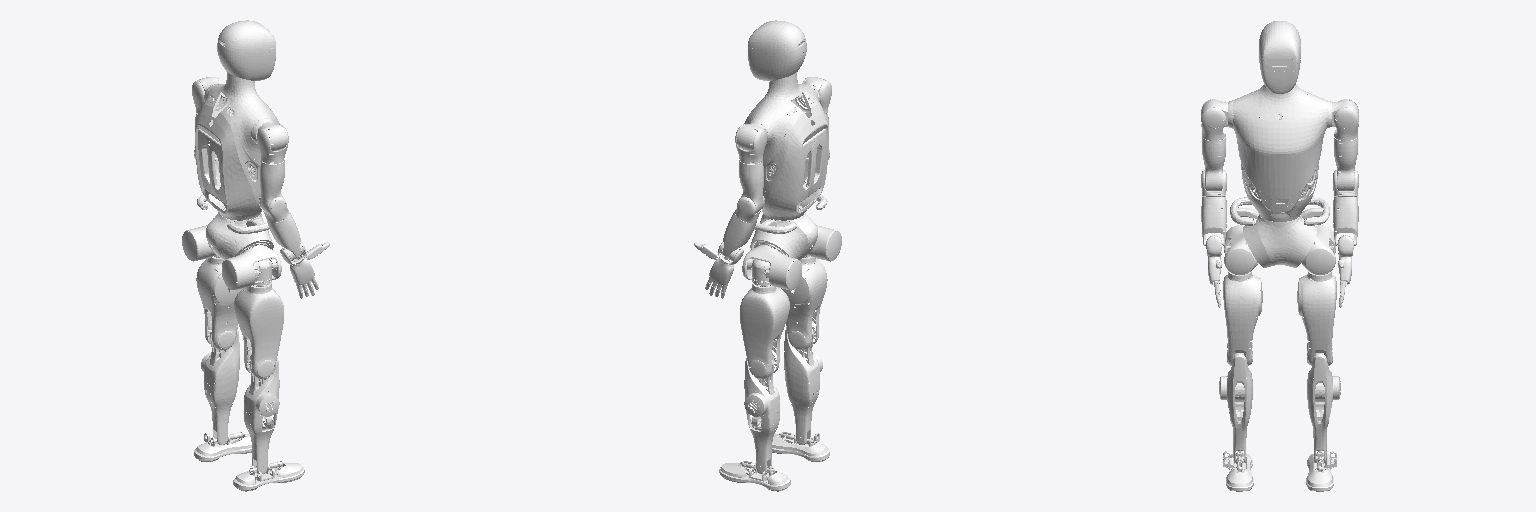
--- Facts derived from the render (not from the file) ---
3 views of the same robot in one strip: view 1: azimuth 30°, elevation 25°; view 2: azimuth 150°, elevation 25°; view 3: azimuth 270°, elevation 25° (orthographic).
Model gr2v3_8_7 with 37 links and 36 joints (29 revolute, 7 fixed), rooted at base_link, posed all joints at 0.
Visible links, largest first — view 1: torso_link, right_thigh_yaw_link, head_pitch_link, left_thigh_yaw_link, left_shank_pitch_link, right_shank_pitch_link, base_link, right_thigh_pitch_link, right_foot_roll_link, left_foot_roll_link, right_upper_arm_yaw_link, dummy_right_hand_link (+3 smaller); view 2: torso_link, left_thigh_yaw_link, head_pitch_link, right_thigh_yaw_link, right_shank_pitch_link, left_shank_pitch_link, base_link, left_thigh_pitch_link, left_foot_roll_link, right_foot_roll_link, left_upper_arm_yaw_link, left_dummy_hand_link (+3 smaller); view 3: torso_link, base_link, left_thigh_yaw_link, right_thigh_yaw_link, head_pitch_link, right_shank_pitch_link, left_shank_pitch_link, left_thigh_pitch_link, right_thigh_pitch_link, left_upper_arm_yaw_link, right_upper_arm_yaw_link, right_hand_yaw_link (+5 smaller).
Link boxes in pixels (x1,y1,x2,y2): torso_link: (195, 72, 279, 220); right_thigh_yaw_link: (234, 282, 283, 378); head_pitch_link: (217, 20, 275, 80); left_thigh_yaw_link: (196, 256, 242, 349); left_shank_pitch_link: (201, 329, 239, 444); right_shank_pitch_link: (244, 358, 279, 473); base_link: (197, 195, 273, 259); right_thigh_pitch_link: (222, 245, 281, 290); right_foot_roll_link: (233, 463, 304, 491); left_foot_roll_link: (194, 433, 251, 461); right_upper_arm_yaw_link: (259, 160, 284, 213); dummy_right_hand_link: (290, 242, 329, 298); torso_link: (744, 72, 828, 220); left_thigh_yaw_link: (740, 282, 789, 378); head_pitch_link: (748, 20, 806, 80); right_thigh_yaw_link: (781, 256, 827, 349); right_shank_pitch_link: (784, 329, 822, 444); left_shank_pitch_link: (744, 358, 779, 473); base_link: (750, 195, 827, 259); left_thigh_pitch_link: (742, 245, 801, 290); left_foot_roll_link: (719, 463, 790, 491); right_foot_roll_link: (772, 433, 829, 461); left_upper_arm_yaw_link: (739, 160, 764, 213); left_dummy_hand_link: (694, 242, 733, 298); torso_link: (1228, 85, 1331, 221); base_link: (1230, 197, 1329, 267); left_thigh_yaw_link: (1297, 271, 1336, 365); right_thigh_yaw_link: (1223, 271, 1262, 365); head_pitch_link: (1259, 21, 1300, 93); right_shank_pitch_link: (1219, 353, 1252, 462); left_shank_pitch_link: (1307, 353, 1340, 462); left_thigh_pitch_link: (1301, 225, 1335, 274); right_thigh_pitch_link: (1224, 225, 1258, 274); left_upper_arm_yaw_link: (1334, 137, 1357, 190); right_upper_arm_yaw_link: (1202, 137, 1225, 190); right_hand_yaw_link: (1201, 196, 1226, 245).
Bounding box of the posed robot: 0.374 × 0.5522 × 1.74 m (x, y, z).
Meshes: 33 distinct files referenced, 33 mesh visuals loaded (33 binary STL).

URDF robot description (gr2v3_8_7):
<?xml version='1.0' encoding='utf-8'?>
<robot name="gr2v3_8_7">
  <mujoco>
    <compiler meshdir="../meshes" strippath="false" balanceinertia="true" fusestatic="false" discardvisual="false" />
  </mujoco>
  <link name="base_link">
    <inertial>
      <origin xyz="-0.0030357 6.968E-05 -0.087284" rpy="0 0 0" />
      <mass value="6.6598" />
      <inertia ixx="0.048356" ixy="-1.314E-05" ixz="0.00041517" iyy="0.030781" iyz="-3.242E-05" izz="0.041191" />
    </inertial>
    <visual>
      <origin xyz="0 0 0" rpy="0 0 0" />
      <geometry>
        <mesh filename="../meshes/gr2v3_8_7/base_link.STL" />
      </geometry>
      <material name="">
        <color rgba="1 1 1 1" />
      </material>
    </visual>
    <collision>
      <origin xyz="0 0.125 0.01" rpy="0 0 0" />
      <geometry>
        <box size="0.18 0.06 0.02" />
      </geometry>
    </collision>
    <collision>
      <origin xyz="0 -0.125 0.01" rpy="0 0 0" />
      <geometry>
        <box size="0.18 0.06 0.02" />
      </geometry>
    </collision>
    <collision>
      <origin xyz="-0.03 0 -0.08" rpy="1.57 0 0" />
      <geometry>
        <cylinder radius="0.1" length="0.17" />
      </geometry>
    </collision>
  </link>
  <link name="waist_yaw_link">
    <inertial>
      <origin xyz="-2.017E-05 8.88E-05 0.024104" rpy="0 0 0" />
      <mass value="0.67252" />
      <inertia ixx="0.0010622" ixy="9E-08" ixz="-4.3E-07" iyy="0.0010624" iyz="3.7E-07" izz="0.00059099" />
    </inertial>
    <visual>
      <origin xyz="0 0 0" rpy="0 0 0" />
      <geometry>
        <mesh filename="../meshes/gr2v3_8_7/waist_yaw_link.STL" />
      </geometry>
      <material name="">
        <color rgba="1 1 1 1" />
      </material>
    </visual>
  </link>
  <joint name="waist_yaw_joint" type="revolute">
    <origin xyz="0 0 -0.0159" rpy="0 0 0" />
    <parent link="base_link" />
    <child link="waist_yaw_link" />
    <axis xyz="0 0 1" />
    <limit lower="-2.618" upper="2.618" effort="74.45" velocity="7.7568" />
    <dynamics armature="0.606" friction="0.01" damping="0.01" />
  </joint>
  <link name="torso_link">
    <inertial>
      <origin xyz="-0.0054214 0.0010624 -0.12326" rpy="0 0 0" />
      <mass value="14.058" />
      <inertia ixx="0.2545" ixy="0.0001127" ixz="-0.0023" iyy="0.21565" iyz="0.00034939" izz="0.1107" />
    </inertial>
    <visual>
      <origin xyz="0 0 0" rpy="0 0 0" />
      <geometry>
        <mesh filename="../meshes/gr2v3_8_7/torso_link.STL" />
      </geometry>
      <material name="">
        <color rgba="1 1 1 1" />
      </material>
    </visual>
    <collision>
      <origin xyz="0 0 -0.13" rpy="0 0 0" />
      <geometry>
        <cylinder radius="0.15" length="0.3" />
      </geometry>
    </collision>
  </link>
  <joint name="torso_joint" type="fixed">
    <origin xyz="0 0 0.39681" rpy="0 0 0" />
    <parent link="waist_yaw_link" />
    <child link="torso_link" />
    <axis xyz="0 0 0" />
  </joint>
  <link name="head_yaw_link">
    <inertial>
      <origin xyz="0 0.0099543 0.0065646" rpy="0 0 0" />
      <mass value="0.1402" />
      <inertia ixx="0.00012944" ixy="0" ixz="0" iyy="0.00010676" iyz="-3.991E-05" izz="4.821E-05" />
    </inertial>
    <visual>
      <origin xyz="0 0 0" rpy="0 0 0" />
      <geometry>
        <mesh filename="../meshes/gr2v3_8_7/head_yaw_link.STL" />
      </geometry>
      <material name="">
        <color rgba="1 1 1 1" />
      </material>
    </visual>
  </link>
  <joint name="head_yaw_joint" type="revolute">
    <origin xyz="0.001 0 0.11061" rpy="0 0 0" />
    <parent link="torso_link" />
    <child link="head_yaw_link" />
    <axis xyz="0 0 1" />
    <limit lower="-1.3963" upper="1.3963" effort="17.325" velocity="9.1627" />
    <dynamics armature="0.111" friction="0.01" damping="0.01" />
  </joint>
  <link name="head_pitch_link">
    <inertial>
      <origin xyz="0.031582 0.0012059 0.072239" rpy="0 0 0" />
      <mass value="1.6096" />
      <inertia ixx="0.0077257" ixy="-1.346E-05" ixz="-0.00055988" iyy="0.010424" iyz="0.00010711" izz="0.0060799" />
    </inertial>
    <visual>
      <origin xyz="0 0 0" rpy="0 0 0" />
      <geometry>
        <mesh filename="../meshes/gr2v3_8_7/head_pitch_link.STL" />
      </geometry>
      <material name="">
        <color rgba="1 1 1 1" />
      </material>
    </visual>
    <collision>
      <origin xyz="0.02 0 0.07" rpy="0 0 0" />
      <geometry>
        <sphere radius="0.09" />
      </geometry>
    </collision>
  </link>
  <joint name="head_pitch_joint" type="revolute">
    <origin xyz="0 0 0.044185" rpy="0 0 0" />
    <parent link="head_yaw_link" />
    <child link="head_pitch_link" />
    <axis xyz="0 1 0" />
    <limit lower="-0.5236" upper="0.5236" effort="17.325" velocity="9.1627" />
    <dynamics armature="0.111" friction="0.01" damping="0.01" />
  </joint>
  <link name="camera_link">
  </link>
  <joint name="camera_joint" type="fixed">
    <origin xyz="0.11296 0 0.09815" rpy="0 0 0" />
    <parent link="head_pitch_link" />
    <child link="camera_link" />
    <axis xyz="0 0 0" />
  </joint>
  <link name="left_upper_arm_pitch_link">
    <inertial>
      <origin xyz="0.0022312 0.040265 3.797E-05" rpy="0 0 0" />
      <mass value="1.3432" />
      <inertia ixx="0.0031811" ixy="-7.306E-05" ixz="-1.5E-07" iyy="0.0012561" iyz="9E-08" izz="0.0030442" />
    </inertial>
    <visual>
      <origin xyz="0 0 0" rpy="0 0 0" />
      <geometry>
        <mesh filename="../meshes/gr2v3_8_7/left_upper_arm_pitch_link.STL" />
      </geometry>
      <material name="">
        <color rgba="1 1 1 1" />
      </material>
    </visual>
  </link>
  <joint name="left_shoulder_pitch_joint" type="revolute">
    <origin xyz="0 0.15115 0" rpy="0 0 0" />
    <parent link="torso_link" />
    <child link="left_upper_arm_pitch_link" />
    <axis xyz="0 1 0" />
    <limit lower="-2.9671" upper="2.9671" effort="74.45" velocity="7.7568" />
    <dynamics armature="0.606" friction="0.01" damping="0.01" />
  </joint>
  <link name="left_upper_arm_roll_link">
    <inertial>
      <origin xyz="0.0087432 0.0022878 -0.038787" rpy="0 0 0" />
      <mass value="0.96142" />
      <inertia ixx="0.0026111" ixy="1.105E-05" ixz="-0.00033468" iyy="0.0028017" iyz="2.91E-06" izz="0.00091191" />
    </inertial>
    <visual>
      <origin xyz="0 0 0" rpy="0 0 0" />
      <geometry>
        <mesh filename="../meshes/gr2v3_8_7/left_upper_arm_roll_link.STL" />
      </geometry>
      <material name="">
        <color rgba="1 1 1 1" />
      </material>
    </visual>
    <collision>
      <origin xyz="0 0 0" rpy="0 0 0" />
      <geometry>
        <sphere radius="0.045" />
      </geometry>
    </collision>
  </link>
  <joint name="left_shoulder_roll_joint" type="revolute">
    <origin xyz="0 0.078848 0" rpy="0 0 0" />
    <parent link="left_upper_arm_pitch_link" />
    <child link="left_upper_arm_roll_link" />
    <axis xyz="1 0 0" />
    <limit lower="-0.5236" upper="2.7925" effort="74.45" velocity="7.7568" />
    <dynamics armature="0.606" friction="0.01" damping="0.01" />
  </joint>
  <link name="left_upper_arm_yaw_link">
    <inertial>
      <origin xyz="-0.00056161 0.0012137 -0.091108" rpy="0 0 0" />
      <mass value="1.3181" />
      <inertia ixx="0.0067903" ixy="3.2E-07" ixz="-5.12E-06" iyy="0.0068059" iyz="9.238E-05" izz="0.0010853" />
    </inertial>
    <visual>
      <origin xyz="0 0 0" rpy="0 0 0" />
      <geometry>
        <mesh filename="../meshes/gr2v3_8_7/left_upper_arm_yaw_link.STL" />
      </geometry>
      <material name="">
        <color rgba="1 1 1 1" />
      </material>
    </visual>
    <collision>
      <origin xyz="0 0 -0.05" rpy="0 0 0" />
      <geometry>
        <cylinder radius="0.04" length="0.10" />
      </geometry>
    </collision>
  </link>
  <joint name="left_shoulder_yaw_joint" type="revolute">
    <origin xyz="0 0 -0.09438" rpy="0 0 0" />
    <parent link="left_upper_arm_roll_link" />
    <child link="left_upper_arm_yaw_link" />
    <axis xyz="0 0 1" />
    <limit lower="-1.8326" upper="1.8326" effort="42.75" velocity="6.283" />
    <dynamics armature="0.222" friction="0.01" damping="0.01" />
  </joint>
  <link name="left_lower_arm_pitch_link">
    <inertial>
      <origin xyz="-0.0014862 0.006973 -0.021097" rpy="0 0 0" />
      <mass value="0.45807" />
      <inertia ixx="0.00068974" ixy="-3.65E-06" ixz="-2.99E-06" iyy="0.00057464" iyz="-6.575E-05" izz="0.00038897" />
    </inertial>
    <visual>
      <origin xyz="0 0 0" rpy="0 0 0" />
      <geometry>
        <mesh filename="../meshes/gr2v3_8_7/left_lower_arm_pitch_link.STL" />
      </geometry>
      <material name="">
        <color rgba="1 1 1 1" />
      </material>
    </visual>
  </link>
  <joint name="left_elbow_pitch_joint" type="revolute">
    <origin xyz="0 0 -0.16111" rpy="0 -0.3926 0" />
    <parent link="left_upper_arm_yaw_link" />
    <child link="left_lower_arm_pitch_link" />
    <axis xyz="0 1 0" />
    <limit lower="-1.5272" upper="0.47997" effort="42.75" velocity="6.283" />
    <dynamics armature="0.222" friction="0.01" damping="0.01" />
  </joint>
  <link name="left_hand_yaw_link">
    <inertial>
      <origin xyz="0.00027991 0.0038031 -0.062955" rpy="0 0 0" />
      <mass value="1.0855" />
      <inertia ixx="0.0023598" ixy="-9.31E-06" ixz="2.063E-05" iyy="0.002234" iyz="0.00013994" izz="0.00088838" />
    </inertial>
    <visual>
      <origin xyz="0 0 0" rpy="0 0 0" />
      <geometry>
        <mesh filename="../meshes/gr2v3_8_7/left_hand_yaw_link.STL" />
      </geometry>
      <material name="">
        <color rgba="1 1 1 1" />
      </material>
    </visual>
    <collision>
      <origin xyz="0 0 -0.05" rpy="0 0 0" />
      <geometry>
        <cylinder radius="0.045" length="0.115" />
      </geometry>
    </collision>
  </link>
  <joint name="left_wrist_yaw_joint" type="revolute">
    <origin xyz="0 0 -0.058525" rpy="0 0 0" />
    <parent link="left_lower_arm_pitch_link" />
    <child link="left_hand_yaw_link" />
    <axis xyz="0 0 1" />
    <limit lower="-1.8326" upper="1.8326" effort="17.325" velocity="9.1627" />
    <dynamics armature="0.111" friction="0.01" damping="0.01" />
  </joint>
  <link name="left_hand_pitch_link">
    <inertial>
      <origin xyz="0.0038604 2.7474E-05 2.9411E-06" rpy="0 0 0" />
      <mass value="0.45716" />
      <inertia ixx="0.00021943" ixy="-3.7E-07" ixz="-8.6975E-08" iyy="0.00022813" iyz="-2.1E-07" izz="0.00023483" />
    </inertial>
    <visual>
      <origin xyz="0 0 0" rpy="0 0 0" />
      <geometry>
        <mesh filename="../meshes/gr2v3_8_7/left_hand_pitch_link.STL" />
      </geometry>
      <material name="">
        <color rgba="1 1 1 1" />
      </material>
    </visual>
  </link>
  <joint name="left_wrist_pitch_joint" type="revolute">
    <origin xyz="0 0 -0.16102" rpy="0 0 0" />
    <parent link="left_hand_yaw_link" />
    <child link="left_hand_pitch_link" />
    <axis xyz="0 1 0" />
    <limit lower="-0.61087" upper="0.61087" effort="17.325" velocity="9.1627" />
    <dynamics armature="0.111" friction="0.01" damping="0.01" />
  </joint>
  <link name="left_hand_roll_link">
    <inertial>
      <origin xyz="0.0087325 -2.8386E-05 -0.015719" rpy="0 0 0" />
      <mass value="0.20259" />
      <inertia ixx="0.0001134" ixy="-1.8583E-08" ixz="-2.4468E-05" iyy="0.00019338" iyz="-6.0314E-08" izz="0.0001471" />
    </inertial>
    <visual>
      <origin xyz="0 0 0" rpy="0 0 0" />
      <geometry>
        <mesh filename="../meshes/gr2v3_8_7/left_hand_roll_link.STL" />
      </geometry>
      <material name="">
        <color rgba="1 1 1 1" />
      </material>
    </visual>
  </link>
  <joint name="left_wrist_roll_joint" type="revolute">
    <origin xyz="0 0 0" rpy="0 0 0" />
    <parent link="left_hand_pitch_link" />
    <child link="left_hand_roll_link" />
    <axis xyz="1 0 0" />
    <limit lower="-0.95993" upper="0.95993" effort="17.325" velocity="9.1627" />
    <dynamics armature="0.111" friction="0.01" damping="0.01" />
  </joint>
  <link name="left_end_effector_link">
  </link>
  <joint name="left_end_effector_joint" type="fixed">
    <origin xyz="0 0 -0.045" rpy="0 0 0" />
    <parent link="left_hand_roll_link" />
    <child link="left_end_effector_link" />
    <axis xyz="0 0 0" />
  </joint>
  <link name="right_upper_arm_pitch_link">
    <inertial>
      <origin xyz="0.0022312 -0.040265 3.797E-05" rpy="0 0 0" />
      <mass value="1.3432" />
      <inertia ixx="0.0031811" ixy="7.306E-05" ixz="-1.5E-07" iyy="0.0012561" iyz="-9E-08" izz="0.0030442" />
    </inertial>
    <visual>
      <origin xyz="0 0 0" rpy="0 0 0" />
      <geometry>
        <mesh filename="../meshes/gr2v3_8_7/right_upper_arm_pitch_link.STL" />
      </geometry>
      <material name="">
        <color rgba="1 1 1 1" />
      </material>
    </visual>
  </link>
  <joint name="right_shoulder_pitch_joint" type="revolute">
    <origin xyz="0 -0.1585 0" rpy="0 0 0" />
    <parent link="torso_link" />
    <child link="right_upper_arm_pitch_link" />
    <axis xyz="0 1 0" />
    <limit lower="-2.9671" upper="2.9671" effort="74.45" velocity="7.7568" />
    <dynamics armature="0.606" friction="0.01" damping="0.01" />
  </joint>
  <link name="right_upper_arm_roll_link">
    <inertial>
      <origin xyz="0.0087432 -0.0022878 -0.038787" rpy="0 0 0" />
      <mass value="0.96142" />
      <inertia ixx="0.0026111" ixy="-1.105E-05" ixz="-0.00033468" iyy="0.0028017" iyz="-2.91E-06" izz="0.00091191" />
    </inertial>
    <visual>
      <origin xyz="0 0 0" rpy="0 0 0" />
      <geometry>
        <mesh filename="../meshes/gr2v3_8_7/right_upper_arm_roll_link.STL" />
      </geometry>
      <material name="">
        <color rgba="1 1 1 1" />
      </material>
    </visual>
    <collision>
      <origin xyz="0 0 0" rpy="0 0 0" />
      <geometry>
        <sphere radius="0.045" />
      </geometry>
    </collision>
  </link>
  <joint name="right_shoulder_roll_joint" type="revolute">
    <origin xyz="0 -0.071498 0" rpy="0 0 0" />
    <parent link="right_upper_arm_pitch_link" />
    <child link="right_upper_arm_roll_link" />
    <axis xyz="1 0 0" />
    <limit lower="-2.7925" upper="0.5236" effort="74.45" velocity="7.7568" />
    <dynamics armature="0.606" friction="0.01" damping="0.01" />
  </joint>
  <link name="right_upper_arm_yaw_link">
    <inertial>
      <origin xyz="-0.00056161 -0.0012137 -0.091108" rpy="0 0 0" />
      <mass value="1.3181" />
      <inertia ixx="0.0067903" ixy="-3.2E-07" ixz="-5.12E-06" iyy="0.0068059" iyz="-9.238E-05" izz="0.0010853" />
    </inertial>
    <visual>
      <origin xyz="0 0 0" rpy="0 0 0" />
      <geometry>
        <mesh filename="../meshes/gr2v3_8_7/right_upper_arm_yaw_link.STL" />
      </geometry>
      <material name="">
        <color rgba="1 1 1 1" />
      </material>
    </visual>
    <collision>
      <origin xyz="0 0 -0.05" rpy="0 0 0" />
      <geometry>
        <cylinder radius="0.040" length="0.1" />
      </geometry>
    </collision>
  </link>
  <joint name="right_shoulder_yaw_joint" type="revolute">
    <origin xyz="0 0 -0.09438" rpy="0 0 0" />
    <parent link="right_upper_arm_roll_link" />
    <child link="right_upper_arm_yaw_link" />
    <axis xyz="0 0 1" />
    <limit lower="-1.8326" upper="1.8326" effort="42.75" velocity="6.283" />
    <dynamics armature="0.222" friction="0.01" damping="0.01" />
  </joint>
  <link name="right_lower_arm_pitch_link">
    <inertial>
      <origin xyz="-0.0014862 -0.006973 -0.021097" rpy="0 0 0" />
      <mass value="0.45807" />
      <inertia ixx="0.00068974" ixy="3.65E-06" ixz="-2.99E-06" iyy="0.00057464" iyz="6.575E-05" izz="0.00038897" />
    </inertial>
    <visual>
      <origin xyz="0 0 0" rpy="0 0 0" />
      <geometry>
        <mesh filename="../meshes/gr2v3_8_7/right_lower_arm_pitch_link.STL" />
      </geometry>
      <material name="">
        <color rgba="1 1 1 1" />
      </material>
    </visual>
  </link>
  <joint name="right_elbow_pitch_joint" type="revolute">
    <origin xyz="0 0 -0.16111" rpy="0 -0.39265 0" />
    <parent link="right_upper_arm_yaw_link" />
    <child link="right_lower_arm_pitch_link" />
    <axis xyz="0 1 0" />
    <limit lower="-1.5272" upper="0.47997" effort="42.75" velocity="6.283" />
    <dynamics armature="0.222" friction="0.01" damping="0.01" />
  </joint>
  <link name="right_hand_yaw_link">
    <inertial>
      <origin xyz="0.00027991 -0.0038031 -0.062955" rpy="0 0 0" />
      <mass value="1.0855" />
      <inertia ixx="0.0023598" ixy="9.31E-06" ixz="2.063E-05" iyy="0.002234" iyz="-0.00013994" izz="0.00088838" />
    </inertial>
    <visual>
      <origin xyz="0 0 0" rpy="0 0 0" />
      <geometry>
        <mesh filename="../meshes/gr2v3_8_7/right_hand_yaw_link.STL" />
      </geometry>
      <material name="">
        <color rgba="1 1 1 1" />
      </material>
    </visual>
    <collision>
      <origin xyz="0 0 -0.05" rpy="0 0 0" />
      <geometry>
        <cylinder radius="0.045" length="0.1155" />
      </geometry>
    </collision>
  </link>
  <joint name="right_wrist_yaw_joint" type="revolute">
    <origin xyz="0 0 -0.058525" rpy="0 0 0" />
    <parent link="right_lower_arm_pitch_link" />
    <child link="right_hand_yaw_link" />
    <axis xyz="0 0 1" />
    <limit lower="-1.8326" upper="1.8326" effort="17.325" velocity="9.1627" />
    <dynamics armature="0.111" friction="0.01" damping="0.01" />
  </joint>
  <link name="right_hand_pitch_link">
    <inertial>
      <origin xyz="0.0038604 -2.7474E-05 2.9411E-06" rpy="0 0 0" />
      <mass value="0.45716" />
      <inertia ixx="0.00021943" ixy="3.7E-07" ixz="-8.6975E-08" iyy="0.00022813" iyz="2.1E-07" izz="0.00023483" />
    </inertial>
    <visual>
      <origin xyz="0 0 0" rpy="0 0 0" />
      <geometry>
        <mesh filename="../meshes/gr2v3_8_7/right_hand_pitch_link.STL" />
      </geometry>
      <material name="">
        <color rgba="1 1 1 1" />
      </material>
    </visual>
  </link>
  <joint name="right_wrist_pitch_joint" type="revolute">
    <origin xyz="0 0 -0.16102" rpy="0 0 0" />
    <parent link="right_hand_yaw_link" />
    <child link="right_hand_pitch_link" />
    <axis xyz="0 1 0" />
    <limit lower="-0.61087" upper="0.61087" effort="17.325" velocity="9.1627" />
    <dynamics armature="0.111" friction="0.01" damping="0.01" />
  </joint>
  <link name="right_hand_roll_link">
    <inertial>
      <origin xyz="0.0087325 2.8386E-05 -0.015719" rpy="0 0 0" />
      <mass value="0.20259" />
      <inertia ixx="0.0001134" ixy="1.8583E-08" ixz="-2.4468E-05" iyy="0.00019338" iyz="6.0314E-08" izz="0.0001471" />
    </inertial>
    <visual>
      <origin xyz="0 0 0" rpy="0 0 0" />
      <geometry>
        <mesh filename="../meshes/gr2v3_8_7/right_hand_roll_link.STL" />
      </geometry>
      <material name="">
        <color rgba="1 1 1 1" />
      </material>
    </visual>
  </link>
  <joint name="right_wrist_roll_joint" type="revolute">
    <origin xyz="0 0 0" rpy="0 0 0" />
    <parent link="right_hand_pitch_link" />
    <child link="right_hand_roll_link" />
    <axis xyz="1 0 0" />
    <limit lower="-0.95993" upper="0.95993" effort="17.325" velocity="9.1627" />
    <dynamics armature="0.111" friction="0.01" damping="0.01" />
  </joint>
  <link name="right_end_effector_link">
  </link>
  <joint name="right_end_effector_joint" type="fixed">
    <origin xyz="0 0 -0.045" rpy="0 0 0" />
    <parent link="right_hand_roll_link" />
    <child link="right_end_effector_link" />
    <axis xyz="0 0 0" />
  </joint>
  <link name="left_thigh_pitch_link">
    <inertial>
      <origin xyz="-0.035065 0.036467 0.0020083" rpy="0 0 0" />
      <mass value="2.61" />
      <inertia ixx="0.0075932" ixy="0.0031974" ixz="-8.035E-05" iyy="0.0085937" iyz="-9.448E-05" izz="0.011716" />
    </inertial>
    <visual>
      <origin xyz="0 0 0" rpy="0 0 0" />
      <geometry>
        <mesh filename="../meshes/gr2v3_8_7/left_thigh_pitch_link.STL" />
      </geometry>
      <material name="">
        <color rgba="1 1 1 1" />
      </material>
    </visual>
  </link>
  <joint name="left_hip_pitch_joint" type="revolute">
    <origin xyz="0 0.076867 -0.12355" rpy="-0.5236 0 0" />
    <parent link="base_link" />
    <child link="left_thigh_pitch_link" />
    <axis xyz="0 1 0" />
    <limit lower="-2.618" upper="2.618" effort="366.05" velocity="6.4997" />
    <dynamics armature="0.592" friction="0.01" damping="0.01" />
  </joint>
  <link name="left_thigh_roll_link">
    <inertial>
      <origin xyz="0.027776 -0.00010848 -0.0074687" rpy="0 0 0" />
      <mass value="1.3487" />
      <inertia ixx="0.001181" ixy="-5.3E-06" ixz="0.00034163" iyy="0.0026369" iyz="-3.01E-06" izz="0.0027651" />
    </inertial>
    <visual>
      <origin xyz="0 0 0" rpy="0 0 0" />
      <geometry>
        <mesh filename="../meshes/gr2v3_8_7/left_thigh_roll_link.STL" />
      </geometry>
      <material name="">
        <color rgba="1 1 1 1" />
      </material>
    </visual>
  </link>
  <joint name="left_hip_roll_joint" type="revolute">
    <origin xyz="-0.062 0.0729 0" rpy="0.5236 0 0" />
    <parent link="left_thigh_pitch_link" />
    <child link="left_thigh_roll_link" />
    <axis xyz="1 0 0" />
    <limit lower="-0.59341" upper="1.5708" effort="95.472" velocity="12.362" />
    <dynamics armature="0.121" friction="0.01" damping="0.01" />
  </joint>
  <link name="left_thigh_yaw_link">
    <inertial>
      <origin xyz="0.0010147 -0.012758 -0.14387" rpy="0 0 0" />
      <mass value="5.1152" />
      <inertia ixx="0.042296" ixy="-8.538E-05" ixz="0.00038855" iyy="0.043183" iyz="0.00098874" izz="0.0099198" />
    </inertial>
    <visual>
      <origin xyz="0 0 0" rpy="0 0 0" />
      <geometry>
        <mesh filename="../meshes/gr2v3_8_7/left_thigh_yaw_link.STL" />
      </geometry>
      <material name="">
        <color rgba="1 1 1 1" />
      </material>
    </visual>
    <collision>
      <origin xyz="0 0 -0.19" rpy="0 0 0" />
      <geometry>
        <cylinder radius="0.06" length="0.26" />
      </geometry>
    </collision>
  </link>
  <joint name="left_hip_yaw_joint" type="revolute">
    <origin xyz="0.062 0 -0.03495" rpy="0 0 0" />
    <parent link="left_thigh_roll_link" />
    <child link="left_thigh_yaw_link" />
    <axis xyz="0 0 1" />
    <limit lower="-0.69813" upper="1.5708" effort="54.33" velocity="14.745" />
    <dynamics armature="0.165" friction="0.01" damping="0.01" />
  </joint>
  <link name="left_shank_pitch_link">
    <inertial>
      <origin xyz="0.0045396 0.0037923 -0.17984" rpy="0 0 0" />
      <mass value="3.7232" />
      <inertia ixx="0.036992" ixy="6.79E-05" ixz="-0.00012767" iyy="0.037957" iyz="0.00044476" izz="0.003922" />
    </inertial>
    <visual>
      <origin xyz="0 0 0" rpy="0 0 0" />
      <geometry>
        <mesh filename="../meshes/gr2v3_8_7/left_shank_pitch_link.STL" />
      </geometry>
      <material name="">
        <color rgba="1 1 1 1" />
      </material>
    </visual>
    <collision>
      <origin xyz="0 0 -0.165" rpy="0 0 0" />
      <geometry>
        <cylinder radius="0.05" length="0.18" />
      </geometry>
    </collision>
  </link>
  <joint name="left_knee_pitch_joint" type="revolute">
    <origin xyz="0 0 -0.34305" rpy="0 0 0" />
    <parent link="left_thigh_yaw_link" />
    <child link="left_shank_pitch_link" />
    <axis xyz="0 1 0" />
    <limit lower="-0.087266" upper="2.3562" effort="366.05" velocity="6.4997" />
    <dynamics armature="0.592" friction="0.01" damping="0.01" />
  </joint>
  <link name="left_foot_pitch_link">
    <inertial>
      <origin xyz="0.028326 1.186E-05 0.0010629" rpy="0 0 0" />
      <mass value="0.18479" />
      <inertia ixx="1.263E-05" ixy="-9E-08" ixz="5.55E-06" iyy="0.0002444" iyz="-1.8E-07" izz="0.00024533" />
    </inertial>
    <visual>
      <origin xyz="0 0 0" rpy="0 0 0" />
      <geometry>
        <mesh filename="../meshes/gr2v3_8_7/left_foot_pitch_link.STL" />
      </geometry>
      <material name="">
        <color rgba="1 1 1 1" />
      </material>
    </visual>
  </link>
  <joint name="left_ankle_pitch_joint" type="revolute">
    <origin xyz="0 0 -0.406" rpy="0 0 0" />
    <parent link="left_shank_pitch_link" />
    <child link="left_foot_pitch_link" />
    <axis xyz="0 1 0" />
    <limit lower="-0.7854" upper="0.7854" effort="54.33" velocity="14.745" />
    <dynamics armature="0.165" friction="0.01" damping="0.01" />
  </joint>
  <link name="left_foot_roll_link">
    <inertial>
      <origin xyz="0.027263 0.0064312 -0.032367" rpy="0 0 0" />
      <mass value="1.1125" />
      <inertia ixx="0.0010746" ixy="0.00020984" ixz="0.00016736" iyy="0.0052051" iyz="-0.00019853" izz="0.0056239" />
    </inertial>
    <visual>
      <origin xyz="0 0 0" rpy="0 0 0" />
      <geometry>
        <mesh filename="../meshes/gr2v3_8_7/left_foot_roll_link.STL" />
      </geometry>
      <material name="">
        <color rgba="1 1 1 1" />
      </material>
    </visual>
    <collision>
      <origin xyz="0.06 -0.025 -0.033" rpy="0 1.57 0" />
      <geometry>
        <cylinder radius="0.025" length="0.28" />
      </geometry>
    </collision>
    <collision>
      <origin xyz="0.06 0.025 -0.033" rpy="0 1.57 0" />
      <geometry>
        <cylinder radius="0.025" length="0.28" />
      </geometry>
    </collision>
  </link>
  <joint name="left_ankle_roll_joint" type="revolute">
    <origin xyz="0 0 0" rpy="0 0 0" />
    <parent link="left_foot_pitch_link" />
    <child link="left_foot_roll_link" />
    <axis xyz="1 0 0" />
    <limit lower="-0.38397" upper="0.38397" effort="29.835" velocity="16.755" />
    <dynamics armature="0.031" friction="0.01" damping="0.01" />
  </joint>
  <link name="right_thigh_pitch_link">
    <inertial>
      <origin xyz="-0.035065 -0.036467 0.0020083" rpy="0 0 0" />
      <mass value="2.61" />
      <inertia ixx="0.0075932" ixy="-0.0031974" ixz="-8.035E-05" iyy="0.0085937" iyz="9.448E-05" izz="0.011716" />
    </inertial>
    <visual>
      <origin xyz="0 0 0" rpy="0 0 0" />
      <geometry>
        <mesh filename="../meshes/gr2v3_8_7/right_thigh_pitch_link.STL" />
      </geometry>
      <material name="">
        <color rgba="1 1 1 1" />
      </material>
    </visual>
  </link>
  <joint name="right_hip_pitch_joint" type="revolute">
    <origin xyz="0 -0.076867 -0.12355" rpy="0.5236 0 0" />
    <parent link="base_link" />
    <child link="right_thigh_pitch_link" />
    <axis xyz="0 1 0" />
    <limit lower="-2.618" upper="2.618" effort="366.05" velocity="6.4997" />
    <dynamics armature="0.592" friction="0.01" damping="0.01" />
  </joint>
  <link name="right_thigh_roll_link">
    <inertial>
      <origin xyz="0.027776 0.00010848 -0.0074687" rpy="0 0 0" />
      <mass value="1.3487" />
      <inertia ixx="0.001181" ixy="5.3E-06" ixz="0.00034163" iyy="0.0026369" iyz="3.01E-06" izz="0.0027651" />
    </inertial>
    <visual>
      <origin xyz="0 0 0" rpy="0 0 0" />
      <geometry>
        <mesh filename="../meshes/gr2v3_8_7/right_thigh_roll_link.STL" />
      </geometry>
      <material name="">
        <color rgba="1 1 1 1" />
      </material>
    </visual>
  </link>
  <joint name="right_hip_roll_joint" type="revolute">
    <origin xyz="-0.062 -0.0729 0" rpy="-0.5236 0 0" />
    <parent link="right_thigh_pitch_link" />
    <child link="right_thigh_roll_link" />
    <axis xyz="1 0 0" />
    <limit lower="-1.5708" upper="0.59341" effort="95.472" velocity="12.362" />
    <dynamics armature="0.121" friction="0.01" damping="0.01" />
  </joint>
  <link name="right_thigh_yaw_link">
    <inertial>
      <origin xyz="0.0010147 0.012758 -0.14387" rpy="0 0 0" />
      <mass value="5.1152" />
      <inertia ixx="0.042296" ixy="8.538E-05" ixz="0.00038855" iyy="0.043183" iyz="-0.00098874" izz="0.0099198" />
    </inertial>
    <visual>
      <origin xyz="0 0 0" rpy="0 0 0" />
      <geometry>
        <mesh filename="../meshes/gr2v3_8_7/right_thigh_yaw_link.STL" />
      </geometry>
      <material name="">
        <color rgba="1 1 1 1" />
      </material>
    </visual>
    <collision>
      <origin xyz="0 0 -0.19" rpy="0 0 0" />
      <geometry>
        <cylinder radius="0.06" length="0.26" />
      </geometry>
    </collision>
  </link>
  <joint name="right_hip_yaw_joint" type="revolute">
    <origin xyz="0.062 0 -0.03495" rpy="0 0 0" />
    <parent link="right_thigh_roll_link" />
    <child link="right_thigh_yaw_link" />
    <axis xyz="0 0 1" />
    <limit lower="-1.5708" upper="0.69813" effort="54.33" velocity="14.745" />
    <dynamics armature="0.165" friction="0.01" damping="0.01" />
  </joint>
  <link name="right_shank_pitch_link">
    <inertial>
      <origin xyz="0.0045396 -0.0037923 -0.17984" rpy="0 0 0" />
      <mass value="3.7232" />
      <inertia ixx="0.036992" ixy="-6.79E-05" ixz="-0.00012767" iyy="0.037957" iyz="-0.00044476" izz="0.003922" />
    </inertial>
    <visual>
      <origin xyz="0 0 0" rpy="0 0 0" />
      <geometry>
        <mesh filename="../meshes/gr2v3_8_7/right_shank_pitch_link.STL" />
      </geometry>
      <material name="">
        <color rgba="1 1 1 1" />
      </material>
    </visual>
    <collision>
      <origin xyz="0 0 -0.165" rpy="0 0 0" />
      <geometry>
        <cylinder radius="0.05" length="0.18" />
      </geometry>
    </collision>
  </link>
  <joint name="right_knee_pitch_joint" type="revolute">
    <origin xyz="0 0 -0.34305" rpy="0 0 0" />
    <parent link="right_thigh_yaw_link" />
    <child link="right_shank_pitch_link" />
    <axis xyz="0 1 0" />
    <limit lower="-0.087266" upper="2.3562" effort="366.05" velocity="6.4997" />
    <dynamics armature="0.592" friction="0.01" damping="0.01" />
  </joint>
  <link name="right_foot_pitch_link">
    <inertial>
      <origin xyz="0.028326 -1.186E-05 0.0010629" rpy="0 0 0" />
      <mass value="0.18479" />
      <inertia ixx="1.263E-05" ixy="9E-08" ixz="5.55E-06" iyy="0.0002444" iyz="1.8E-07" izz="0.00024533" />
    </inertial>
    <visual>
      <origin xyz="0 0 0" rpy="0 0 0" />
      <geometry>
        <mesh filename="../meshes/gr2v3_8_7/right_foot_pitch_link.STL" />
      </geometry>
      <material name="">
        <color rgba="1 1 1 1" />
      </material>
    </visual>
  </link>
  <joint name="right_ankle_pitch_joint" type="revolute">
    <origin xyz="0 0 -0.406" rpy="0 0 0" />
    <parent link="right_shank_pitch_link" />
    <child link="right_foot_pitch_link" />
    <axis xyz="0 1 0" />
    <limit lower="-0.7854" upper="0.7854" effort="54.33" velocity="14.745" />
    <dynamics armature="0.165" friction="0.01" damping="0.01" />
  </joint>
  <link name="right_foot_roll_link">
    <inertial>
      <origin xyz="0.027263 -0.0064312 -0.032367" rpy="0 0 0" />
      <mass value="1.1125" />
      <inertia ixx="0.0010746" ixy="-0.00020984" ixz="0.00016736" iyy="0.0052051" iyz="0.00019853" izz="0.0056239" />
    </inertial>
    <visual>
      <origin xyz="0 0 0" rpy="0 0 0" />
      <geometry>
        <mesh filename="../meshes/gr2v3_8_7/right_foot_roll_link.STL" />
      </geometry>
      <material name="">
        <color rgba="1 1 1 1" />
      </material>
    </visual>
    <collision>
      <origin xyz="0.06 -0.025 -0.033" rpy="0 1.57 0" />
      <geometry>
        <cylinder radius="0.025" length="0.28" />
      </geometry>
    </collision>
    <collision>
      <origin xyz="0.06 0.025 -0.033" rpy="0 1.57 0" />
      <geometry>
        <cylinder radius="0.025" length="0.28" />
      </geometry>
    </collision>
  </link>
  <joint name="right_ankle_roll_joint" type="revolute">
    <origin xyz="0 0 0" rpy="0 0 0" />
    <parent link="right_foot_pitch_link" />
    <child link="right_foot_roll_link" />
    <axis xyz="1 0 0" />
    <limit lower="-0.38397" upper="0.38397" effort="29.835" velocity="16.755" />
    <dynamics armature="0.031" friction="0.01" damping="0.01" />
  </joint>
  <link name="imu_link">
    <inertial>
      <origin xyz="0 0 0" rpy="0 0 0" />
      <mass value="0" />
      <inertia ixx="0" ixy="0" ixz="0" iyy="0" iyz="0" izz="0" />
    </inertial>
  </link>
  <joint name="imu_joint" type="fixed">
    <origin xyz="-0.059 0 -0.068" rpy="0 0 0" />
    <parent link="base_link" />
    <child link="imu_link" />
    <axis xyz="0 0 0" />
  </joint>
<link name="left_dummy_hand_link">
    <inertial>
      <origin xyz="0.01485 -0.006224 -0.05627" rpy="0 0 0" />
      <mass value="0.4686" />
      <inertia ixx="0.0006912" ixy="7.052E-5" ixz="-0.000229" iyy="0.001342" iyz="-9.13E-6" izz="0.0007638" />
    </inertial>
    <visual>
      <origin xyz="0 0 0" rpy="0 0 0" />
      <geometry>
        <mesh filename="../meshes/dummy_hand/dummy_left_hand.STL" />
      </geometry>
      <material name="">
        <color rgba="1 1 1 1" />
      </material>
    </visual>
    <collision>
      <origin xyz="0 0 -0.055" rpy="0 0 0" />
      <geometry>
        <box size="0.07 0.04 0.11" />
      </geometry>
      <material name="">
        <color rgba="1 1 1 1" />
      </material>
    </collision>
  </link>
<joint name="left_dummy_hand_joint" type="fixed"><parent link="left_end_effector_link" /><child link="left_dummy_hand_link" /><origin rpy="0 0 0" xyz="0 0 0" /></joint><link name="dummy_right_hand_link">
    <inertial>
      <origin xyz="0.01432 0.006317 -0.0565" rpy="0 0 0" />
      <mass value="0.4686" />
      <inertia ixx="0.0007033" ixy="-7.032E-5" ixz="-0.000234" iyy="0.001361" iyz="1.09E-5" izz="0.0007708" />
    </inertial>
    <visual>
      <origin xyz="0 0 0" rpy="0 0 0" />
      <geometry>
        <mesh filename="../meshes/dummy_hand/dummy_right_hand.STL" />
      </geometry>
      <material name="">
        <color rgba="1 1 1 1" />
      </material>
    </visual>
    <collision>
      <origin xyz="0 0 -0.055" rpy="0 0 0" />
      <geometry>
        <box size="0.07 0.04 0.11" />
      </geometry>
      <material name="">
        <color rgba="1 1 1 1" />
      </material>
    </collision>
  </link>
<joint name="dummy_right_hand_joint" type="fixed"><parent link="right_end_effector_link" /><child link="dummy_right_hand_link" /><origin rpy="0 0 0" xyz="0 0 0" /></joint></robot>
